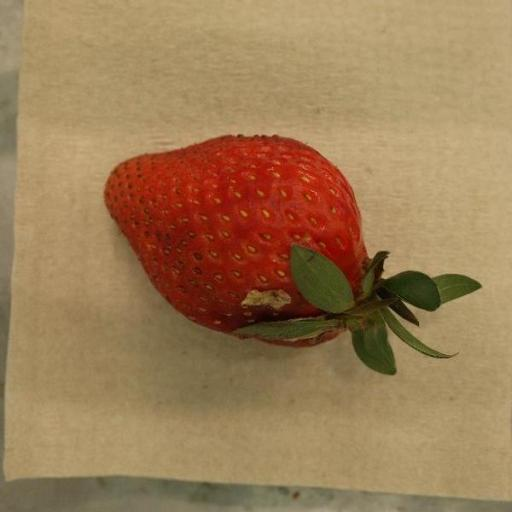Strawberry: (104, 136, 484, 376)
